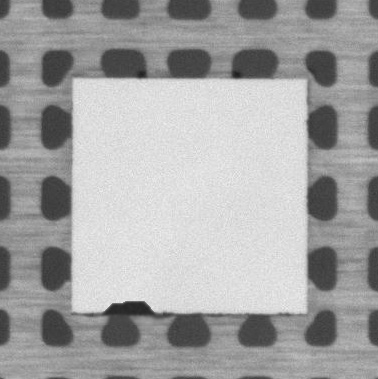DIE_BROKEN: (100, 298, 157, 317)
